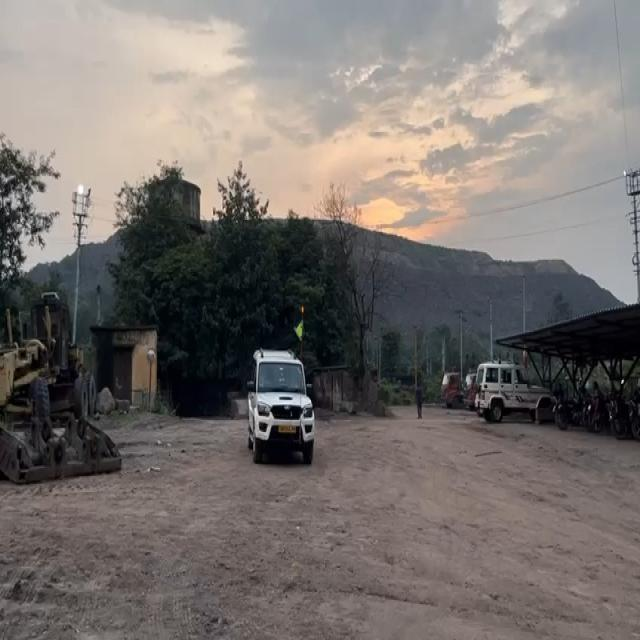light_vehicle: (248, 349, 316, 464), (474, 362, 552, 419)
